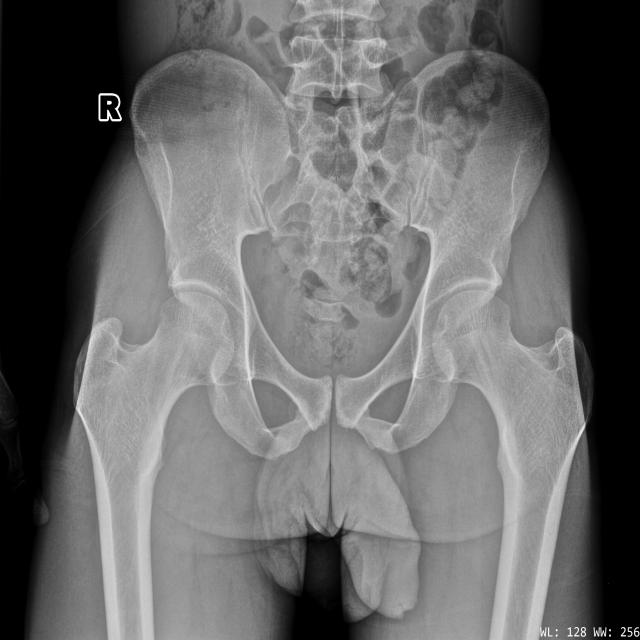normal-left: (432, 290, 595, 571)
normal-right: (73, 290, 233, 578)
